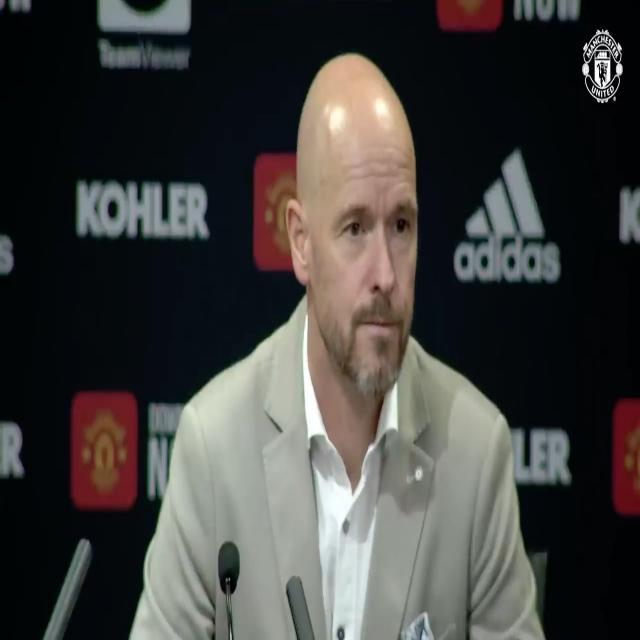Adidas: (453, 146, 560, 282)
Kohler: (75, 178, 208, 241)
TeamViewer: (98, 0, 191, 70)
